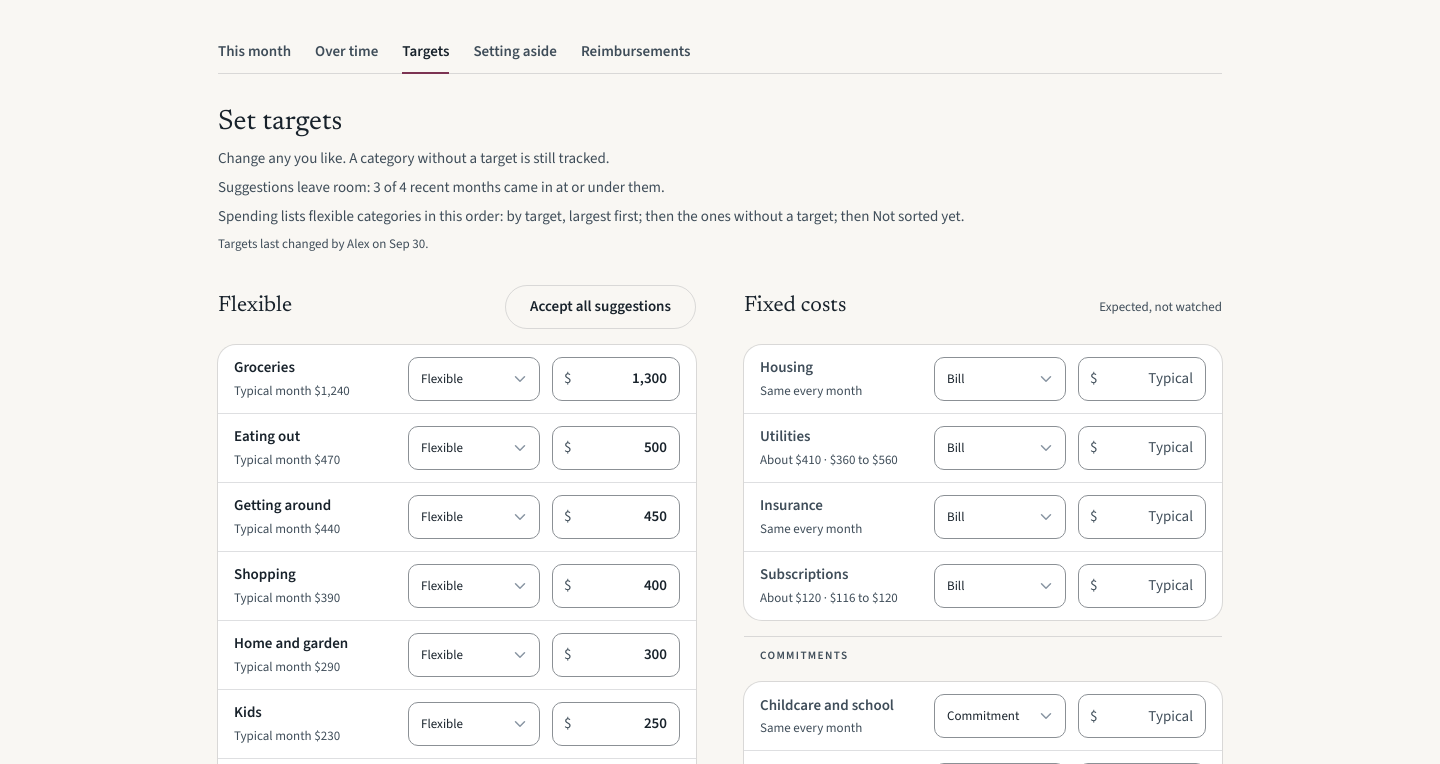
Test: Set targets › an amount it cannot read is named and cannot be saved; Reset puts everything back
This screenshot has width=1440, height=764.
Replace the text in the field named "Eating out target" with "12.345" at (616, 448), box [552, 426, 680, 470]
(page scrolled)
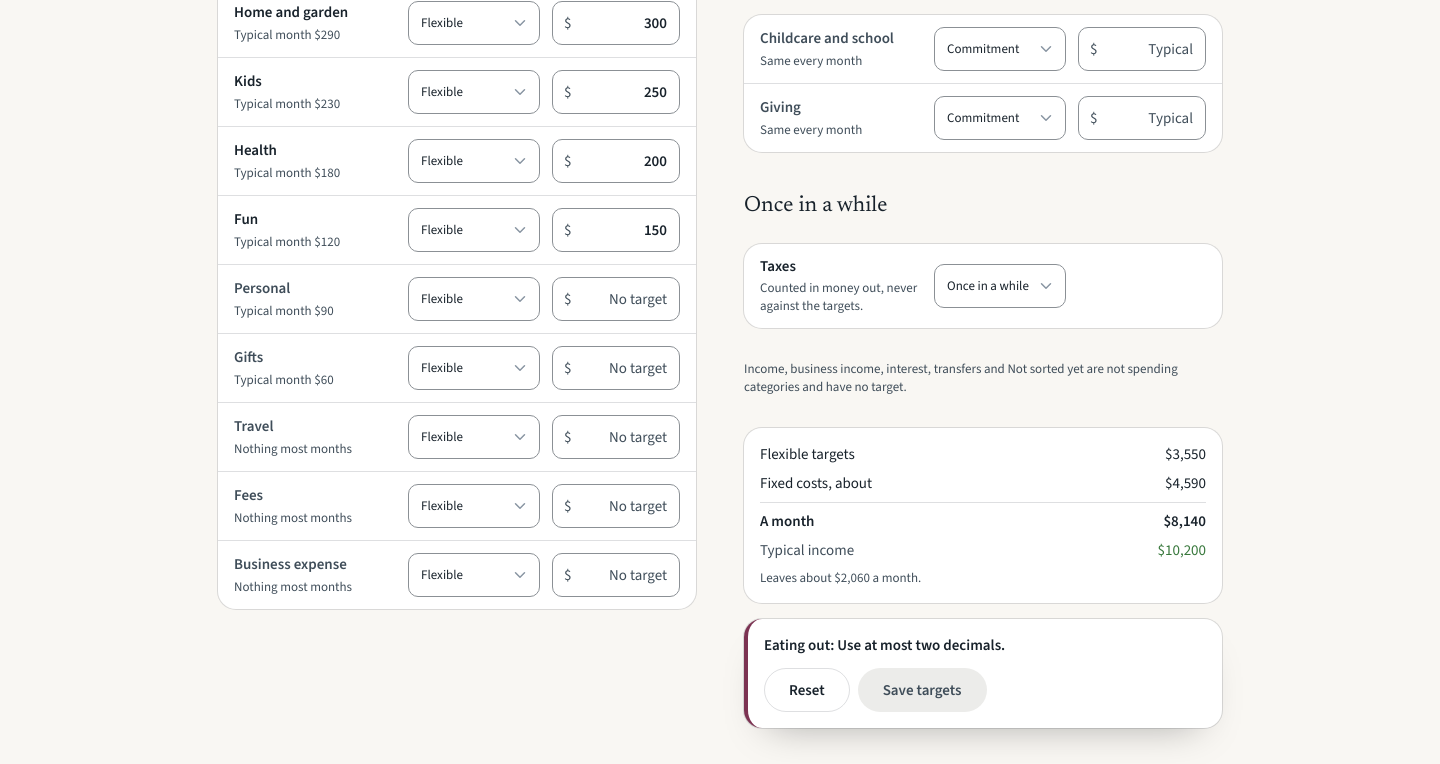
expect the button "Save targets" is disabled: met, box [858, 668, 987, 712]
Click the button "Reset".
click(807, 690)  # box [764, 668, 850, 712]
(page scrolled)
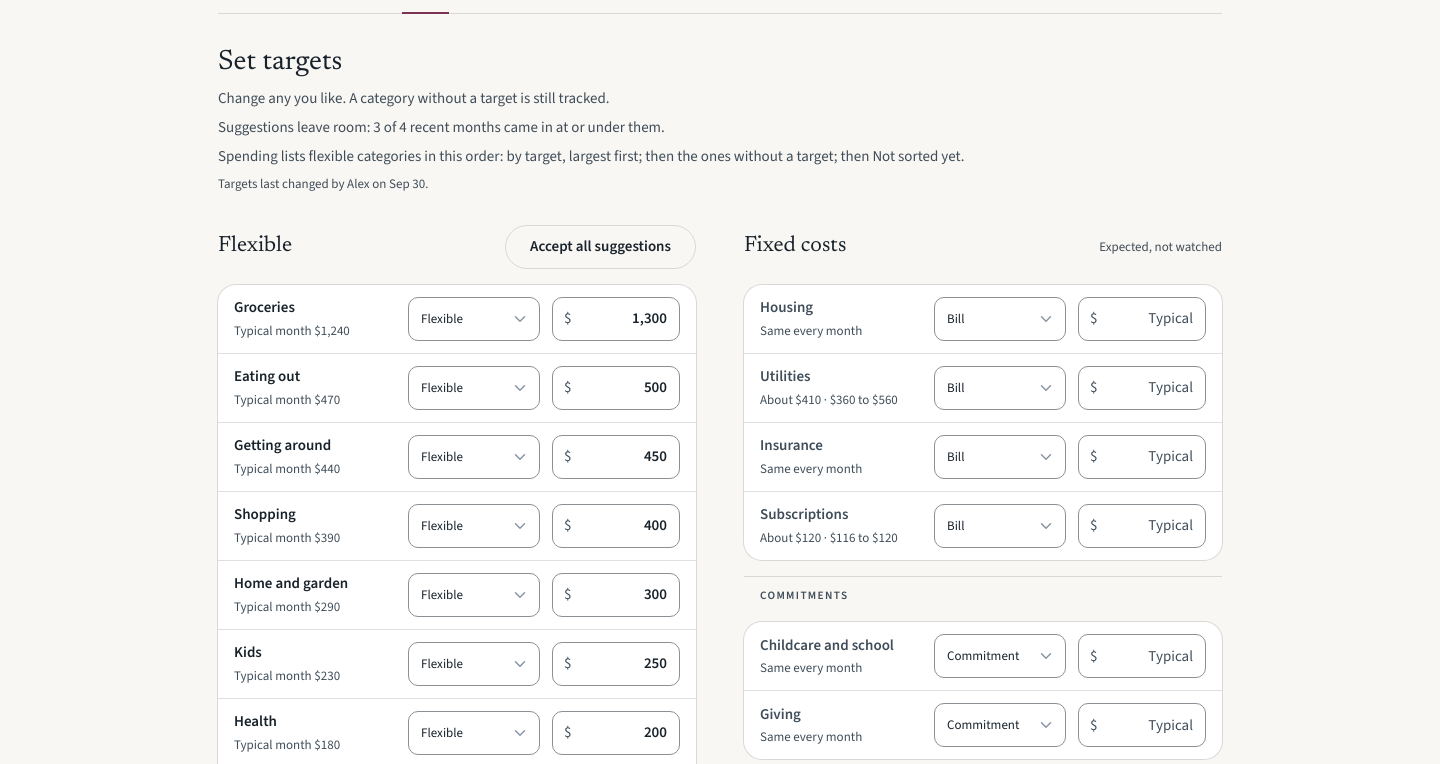
expect the field named "Eating out target" holds "500": met, box [552, 366, 680, 410]
expect the text "Eating out:" is gone: met
